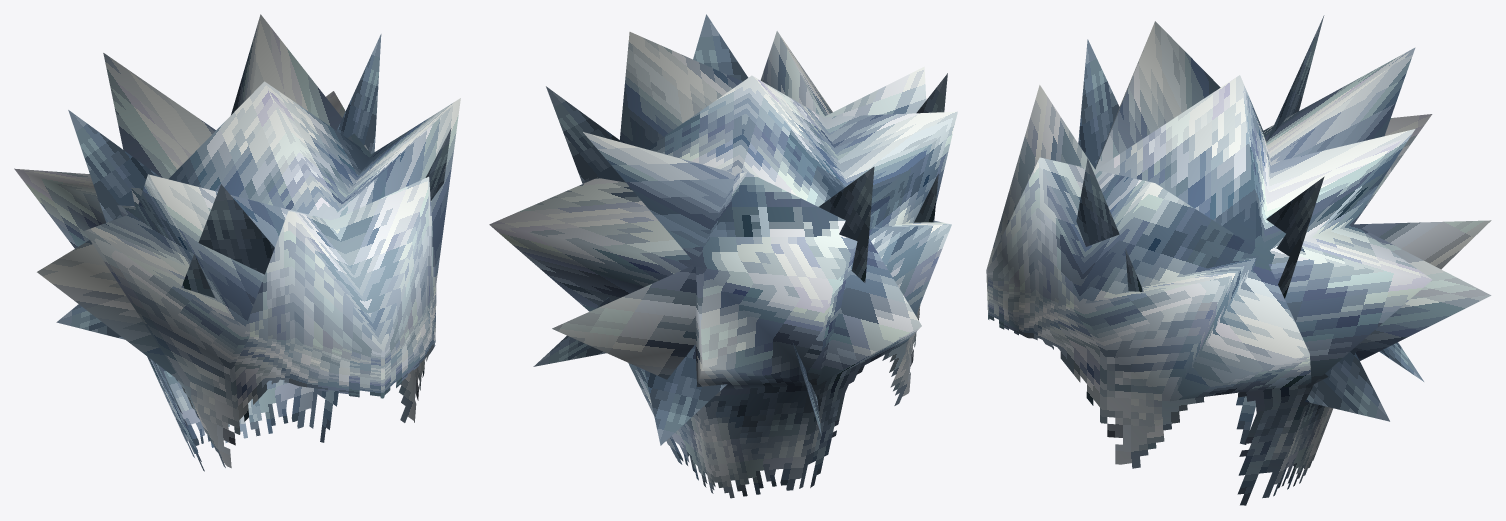
File: HUmar hair4.obj
The picture shows the model from 3 angles, left to right: view 1: azimuth 30°, elevation 25°; view 2: azimuth 150°, elevation 25°; view 3: azimuth 270°, elevation 25°; orthographic projection. The views are drawn at different scales.
Visible parts, largest first — view 1: objg_plAhai03_2, objg_plAhai03_1; view 2: objg_plAhai03_2, objg_plAhai03_1; view 3: objg_plAhai03_2, objg_plAhai03_1.
Part boxes in pixels (x1=…): objg_plAhai03_2: x1=14, y1=14, x2=460, y2=471; objg_plAhai03_1: x1=56, y1=34, x2=451, y2=339; objg_plAhai03_2: x1=489, y1=31, x2=957, y2=498; objg_plAhai03_1: x1=533, y1=14, x2=947, y2=445; objg_plAhai03_2: x1=986, y1=21, x2=1491, y2=505; objg_plAhai03_1: x1=1076, y1=15, x2=1423, y2=421.
Size of the model in its own units: 1.31 by 1.25 by 1.39.
1 material, 1 textured.
